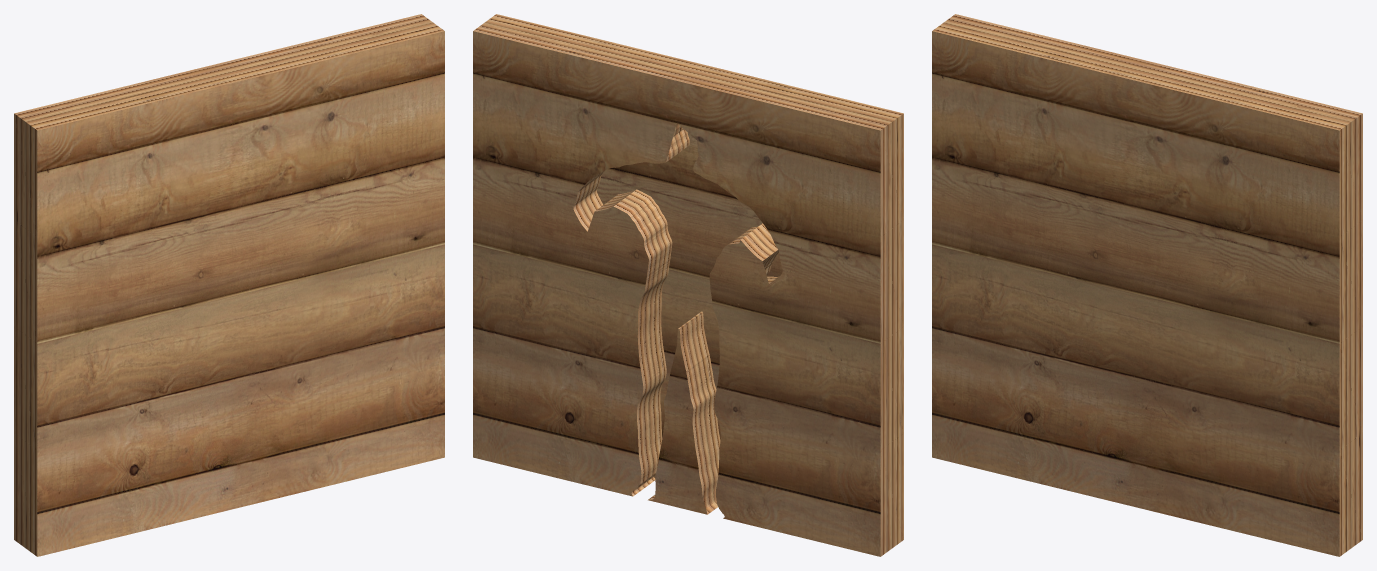
Rendered from double bicept flex down.FBX.
3 renders of one model, left to right at view 1: azimuth 30°, elevation 25°; view 2: azimuth 150°, elevation 25°; view 3: azimuth 330°, elevation 25°, orthographic.
Parts seen in each view (by area): view 1: Object001; view 2: Object001; view 3: Object001.
Boxes of the visible parts, x1,y1,x2,y2 form: Object001: (14,14,444,556); Object001: (473,14,903,556); Object001: (932,14,1362,556).
Bounding box in the file's own units: 2 × 2 × 0.1986.
1 material, 1 textured.
